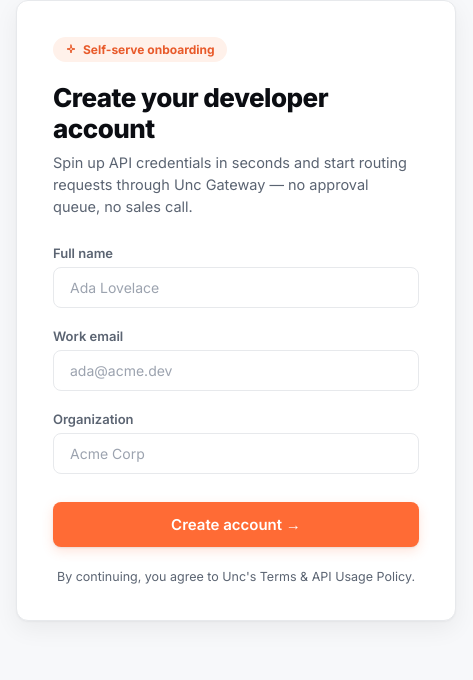
Scenario: SignupForm Component › blocks submission and displays validation errors when required fields are empty
Click the button "Create account →". click: click(236, 525)
box: [53,502,419,547]
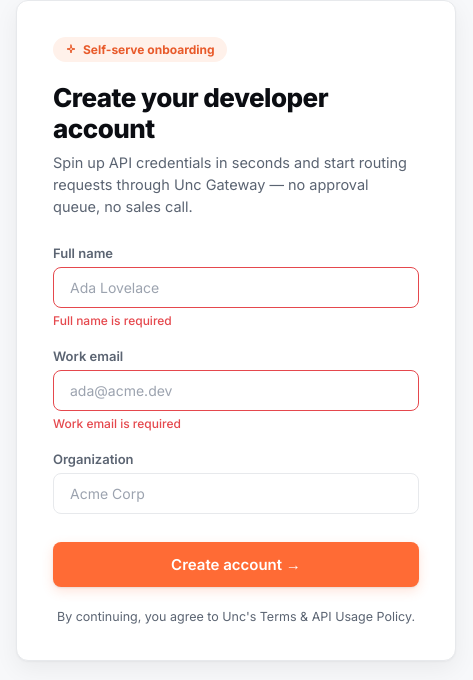
Now the text "Full name is required" is shown, box [53,313,172,328]
Now the text "Work email is required" is shown, box [53,416,181,431]
